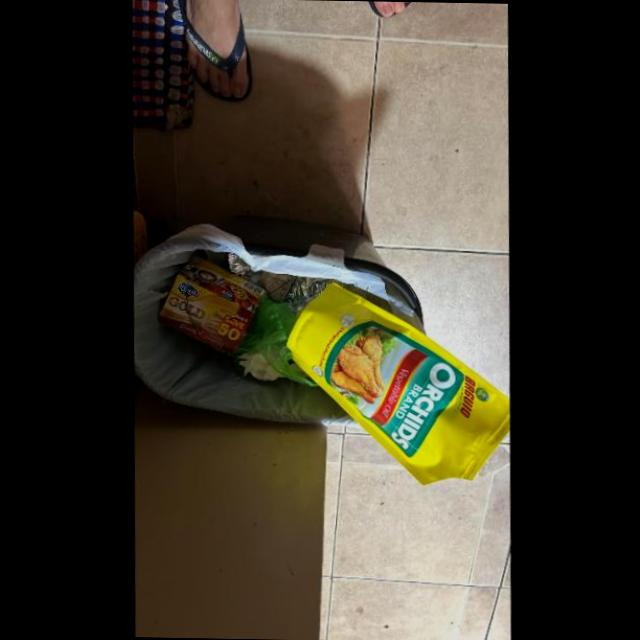bao_bi_thuc_pham: (286, 280, 512, 483), (159, 250, 262, 354)
carton: (157, 251, 266, 354)
giay: (241, 352, 278, 378)
nhom: (230, 251, 335, 315)
tui_ni_long: (239, 289, 320, 385)
